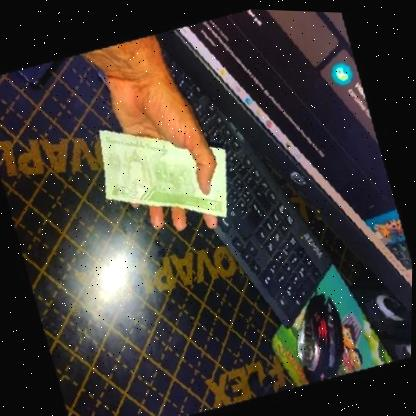fifty-back-vef: (92, 107, 239, 236)
